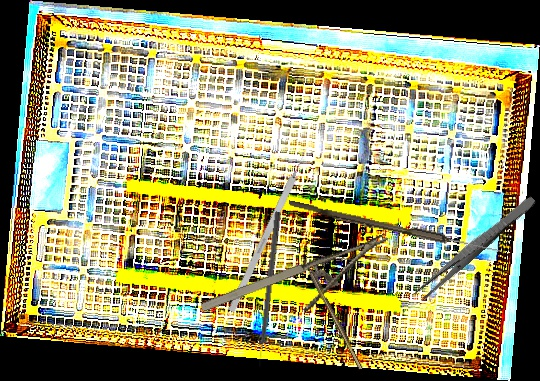Dressing Forceps: (413, 192, 538, 303)
Hook Surgical: (227, 145, 312, 313), (300, 254, 364, 371)
Needle Holder: (198, 233, 402, 343)
Pusher: (254, 211, 282, 367)
Surgical Spoon: (287, 200, 504, 256)
